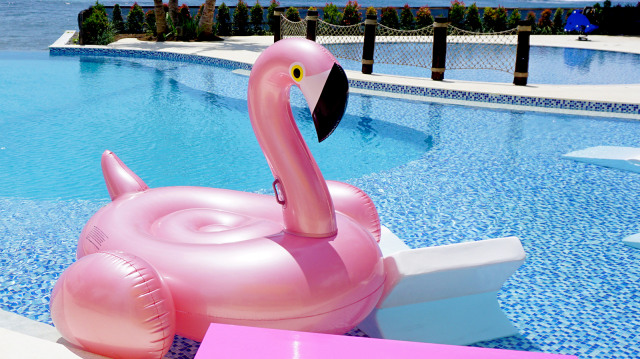Flamingo: (48, 36, 387, 358)
